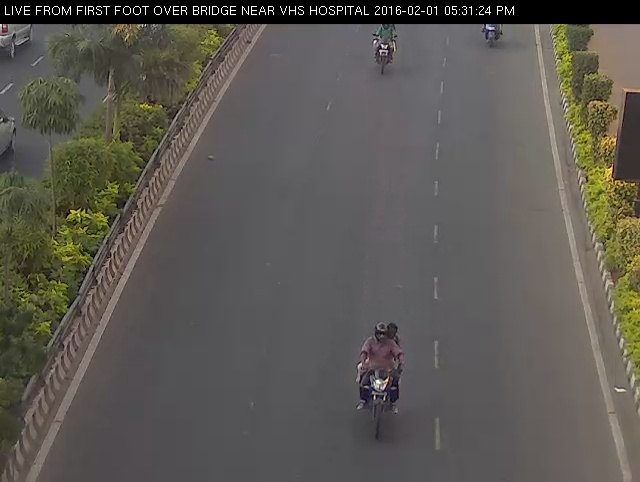Person: (348, 302, 412, 446), (366, 14, 407, 81)
